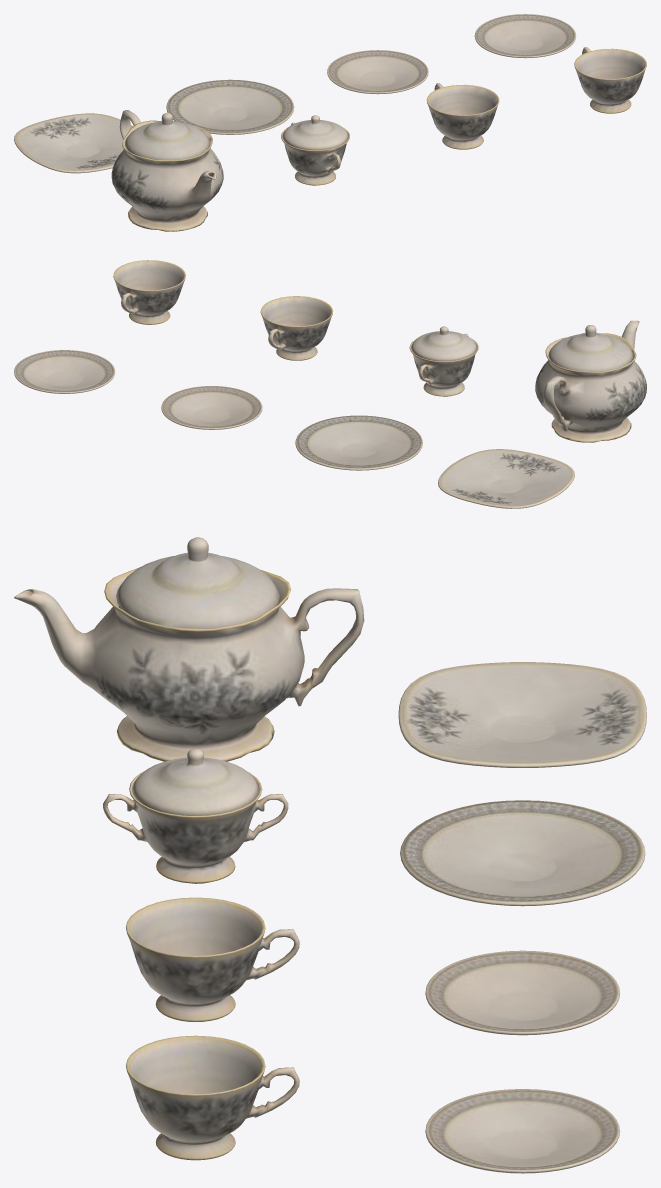
File: tea_set_01.glb
The picture shows the model from 3 angles, top to bottom: view 1: azimuth 30°, elevation 25°; view 2: azimuth 150°, elevation 25°; view 3: azimuth 270°, elevation 25°; orthographic projection. The views are drawn at different scales.
Parts seen in each view (by area): view 1: tea_set_01_teapot_01, tea_set_01_plate_large_circular_03, tea_set_01_plate_large_square_01, tea_set_01_cup_small_01, tea_set_01_cup_small_02, tea_set_01_saucer_circular_03, tea_set_01_saucer_circular_04, tea_set_01_teapot_01_lid, tea_set_01_sugar_cup_01, tea_set_01_sugar_cup_01_lid; view 2: tea_set_01_teapot_01, tea_set_01_plate_large_square_01, tea_set_01_plate_large_circular_03, tea_set_01_cup_small_01, tea_set_01_cup_small_02, tea_set_01_saucer_circular_04, tea_set_01_saucer_circular_03, tea_set_01_teapot_01_lid, tea_set_01_sugar_cup_01, tea_set_01_sugar_cup_01_lid; view 3: tea_set_01_teapot_01, tea_set_01_plate_large_square_01, tea_set_01_plate_large_circular_03, tea_set_01_cup_small_01, tea_set_01_cup_small_02, tea_set_01_saucer_circular_03, tea_set_01_saucer_circular_04, tea_set_01_teapot_01_lid, tea_set_01_sugar_cup_01, tea_set_01_sugar_cup_01_lid.
Boxes of the visible parts, <box> form: tea_set_01_teapot_01: <box>111,110,223,231</box>; tea_set_01_plate_large_circular_03: <box>166,79,294,134</box>; tea_set_01_plate_large_square_01: <box>14,113,133,173</box>; tea_set_01_cup_small_01: <box>426,83,499,149</box>; tea_set_01_cup_small_02: <box>574,47,646,113</box>; tea_set_01_saucer_circular_03: <box>474,14,575,58</box>; tea_set_01_saucer_circular_04: <box>327,50,428,94</box>; tea_set_01_teapot_01_lid: <box>124,112,209,160</box>; tea_set_01_sugar_cup_01: <box>281,122,349,185</box>; tea_set_01_sugar_cup_01_lid: <box>282,115,348,150</box>; tea_set_01_teapot_01: <box>535,320,646,442</box>; tea_set_01_plate_large_square_01: <box>438,449,574,508</box>; tea_set_01_plate_large_circular_03: <box>295,415,422,470</box>; tea_set_01_cup_small_01: <box>260,296,332,360</box>; tea_set_01_cup_small_02: <box>113,260,185,324</box>; tea_set_01_saucer_circular_04: <box>161,386,262,429</box>; tea_set_01_saucer_circular_03: <box>14,350,115,393</box>; tea_set_01_teapot_01_lid: <box>548,325,633,371</box>; tea_set_01_sugar_cup_01: <box>409,333,478,396</box>; tea_set_01_sugar_cup_01_lid: <box>411,326,477,361</box>; tea_set_01_teapot_01: <box>14,568,364,761</box>; tea_set_01_plate_large_square_01: <box>398,662,646,767</box>; tea_set_01_plate_large_circular_03: <box>400,800,645,906</box>; tea_set_01_cup_small_01: <box>126,897,299,1021</box>; tea_set_01_cup_small_02: <box>126,1035,299,1160</box>; tea_set_01_saucer_circular_03: <box>425,1089,620,1173</box>; tea_set_01_saucer_circular_04: <box>425,950,619,1035</box>; tea_set_01_teapot_01_lid: <box>116,537,279,628</box>; tea_set_01_sugar_cup_01: <box>103,771,288,883</box>; tea_set_01_sugar_cup_01_lid: <box>131,748,259,816</box>.
Size of the model in its own units: 0.9185 by 0.165 by 0.4839.
Materials: 1 (1 with a texture image).
